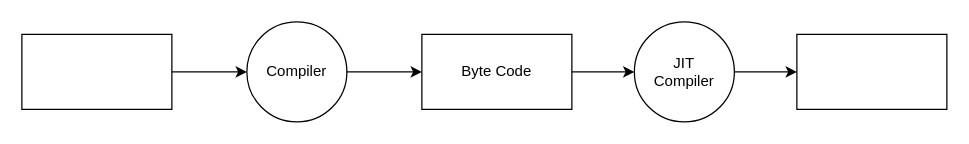
This 969x144 diagram has some shape labels left out. Each missing label, with the centre of its shape:
"Machine Code" belongs at [871,71].
"Python code" belongs at [96,71].
